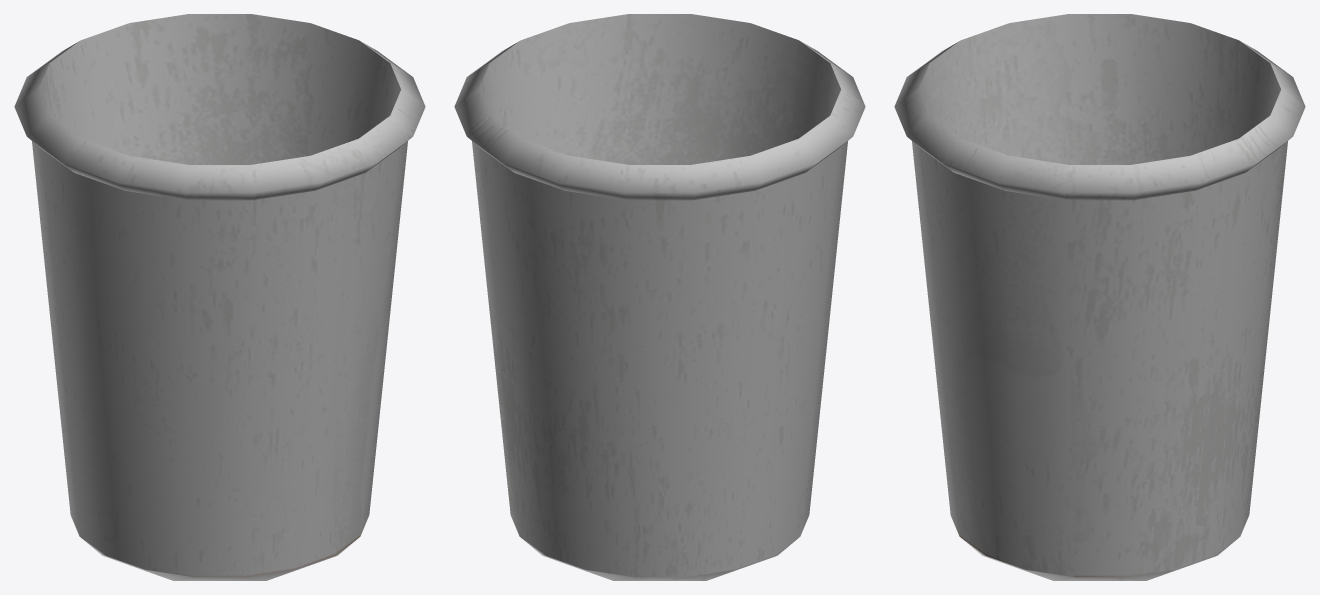
File: SM_Drink_Cup2.fbx
3 renders of one model, left to right at view 1: azimuth 30°, elevation 25°; view 2: azimuth 150°, elevation 25°; view 3: azimuth 270°, elevation 25°, orthographic.
Visible parts, largest first — view 1: SM_Drink_Cup2_LOD0; view 2: SM_Drink_Cup2_LOD0; view 3: SM_Drink_Cup2_LOD0.
Part boxes in pixels (left/top/right/bottom): SM_Drink_Cup2_LOD0: left=14, top=14, right=425, bottom=580; SM_Drink_Cup2_LOD0: left=454, top=14, right=865, bottom=580; SM_Drink_Cup2_LOD0: left=894, top=14, right=1305, bottom=580.
Size of the model in its own units: 12.76 by 12.95 by 15.21.
Materials: 1 (1 with a texture image).
